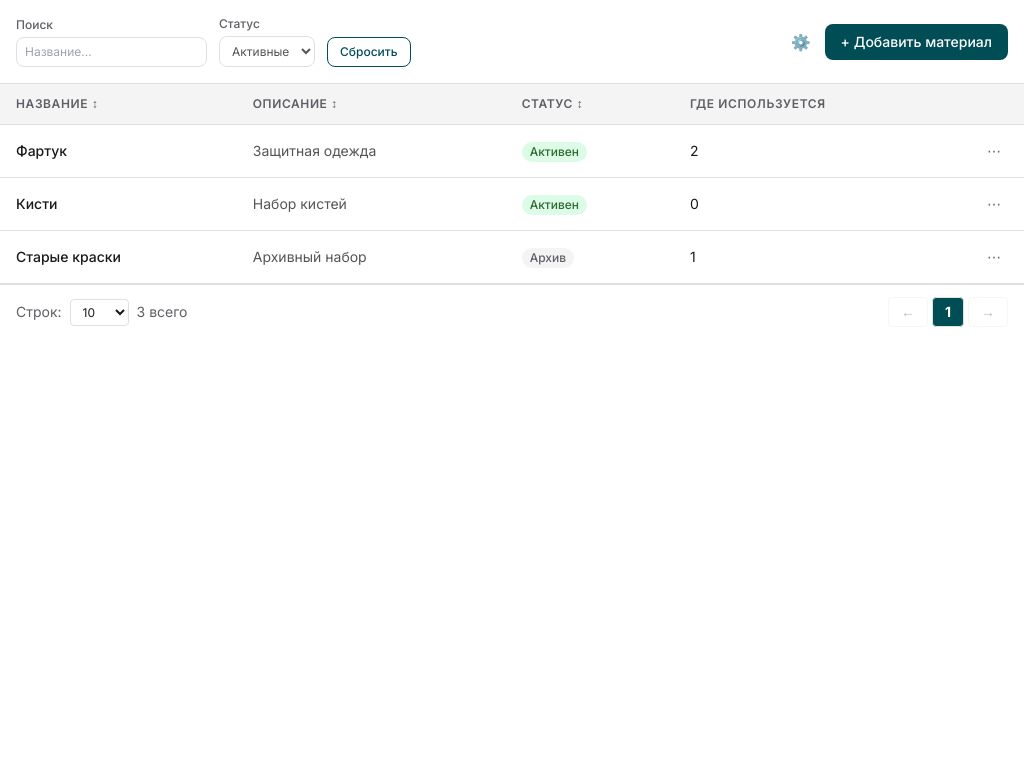
it: MaterialsTable › opens DeleteDialog when a 409 conflict occurs (linked material)
Expected: the text "Фартук" is shown, [16,142,67,159]
Click the button named "Действия" at x=994, y=151, box [980,137,1008,165]
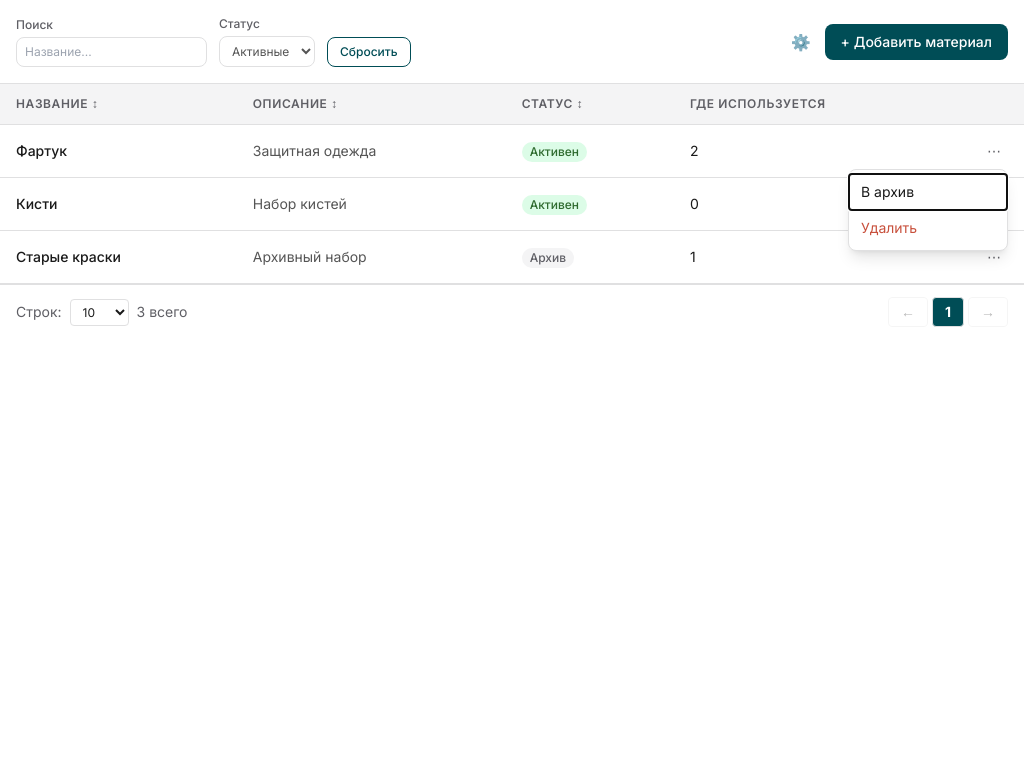
Click the menu item "Удалить" at x=928, y=228, box [849,210,1007,246]
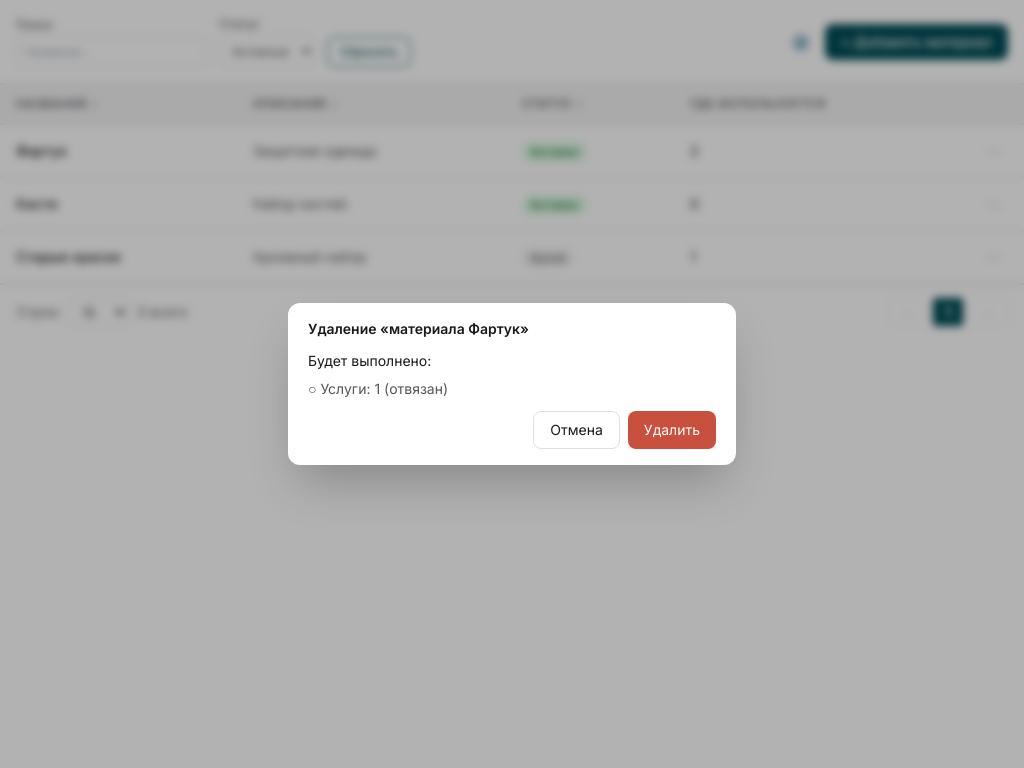
Now the element with test id "delete-dialog" is shown, box [288,303,736,465]
